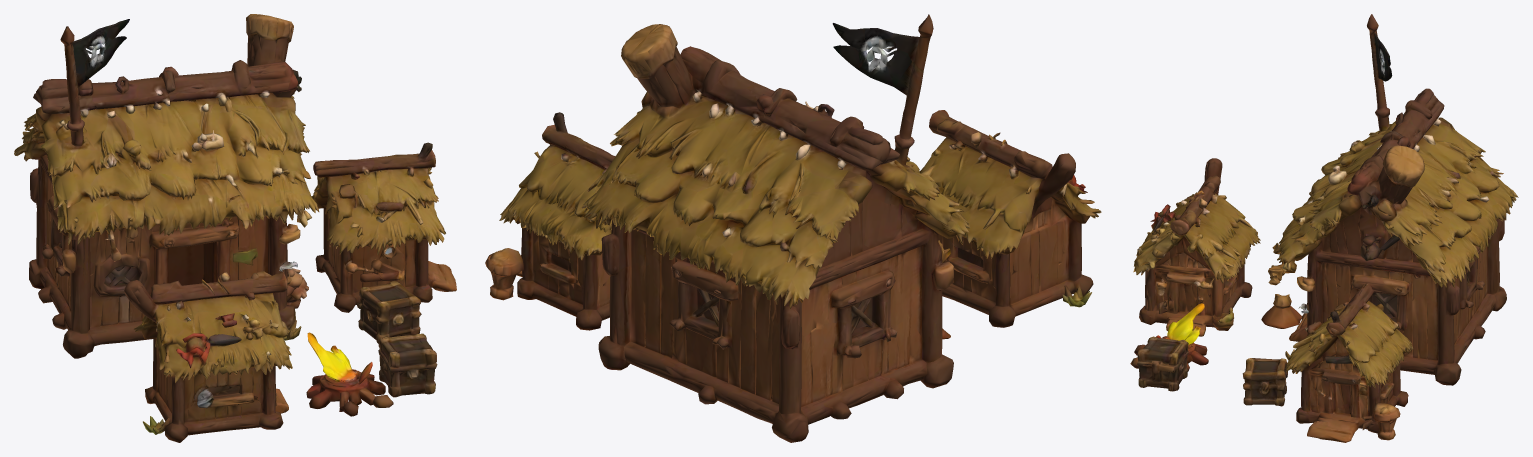
File: colonia.glb
The picture shows the model from 3 angles, left to right: view 1: azimuth 30°, elevation 25°; view 2: azimuth 150°, elevation 25°; view 3: azimuth 270°, elevation 25°; orthographic projection. The views are drawn at different scales.
Size of the model in its own units: 0.9346 by 0.7191 by 0.9099.
1 material, 1 textured.
